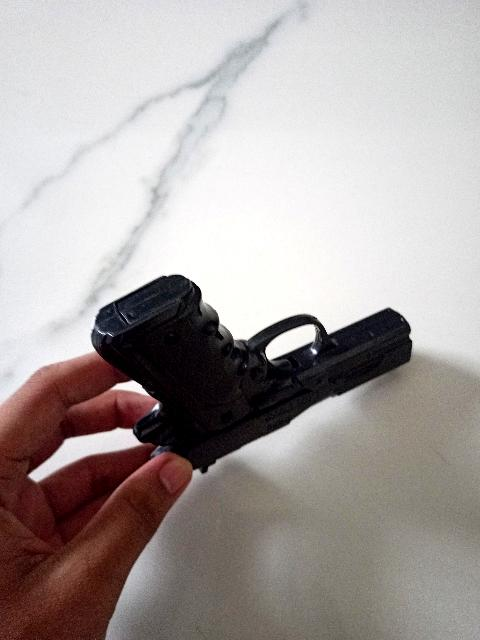pistol: (89, 270, 413, 470)
